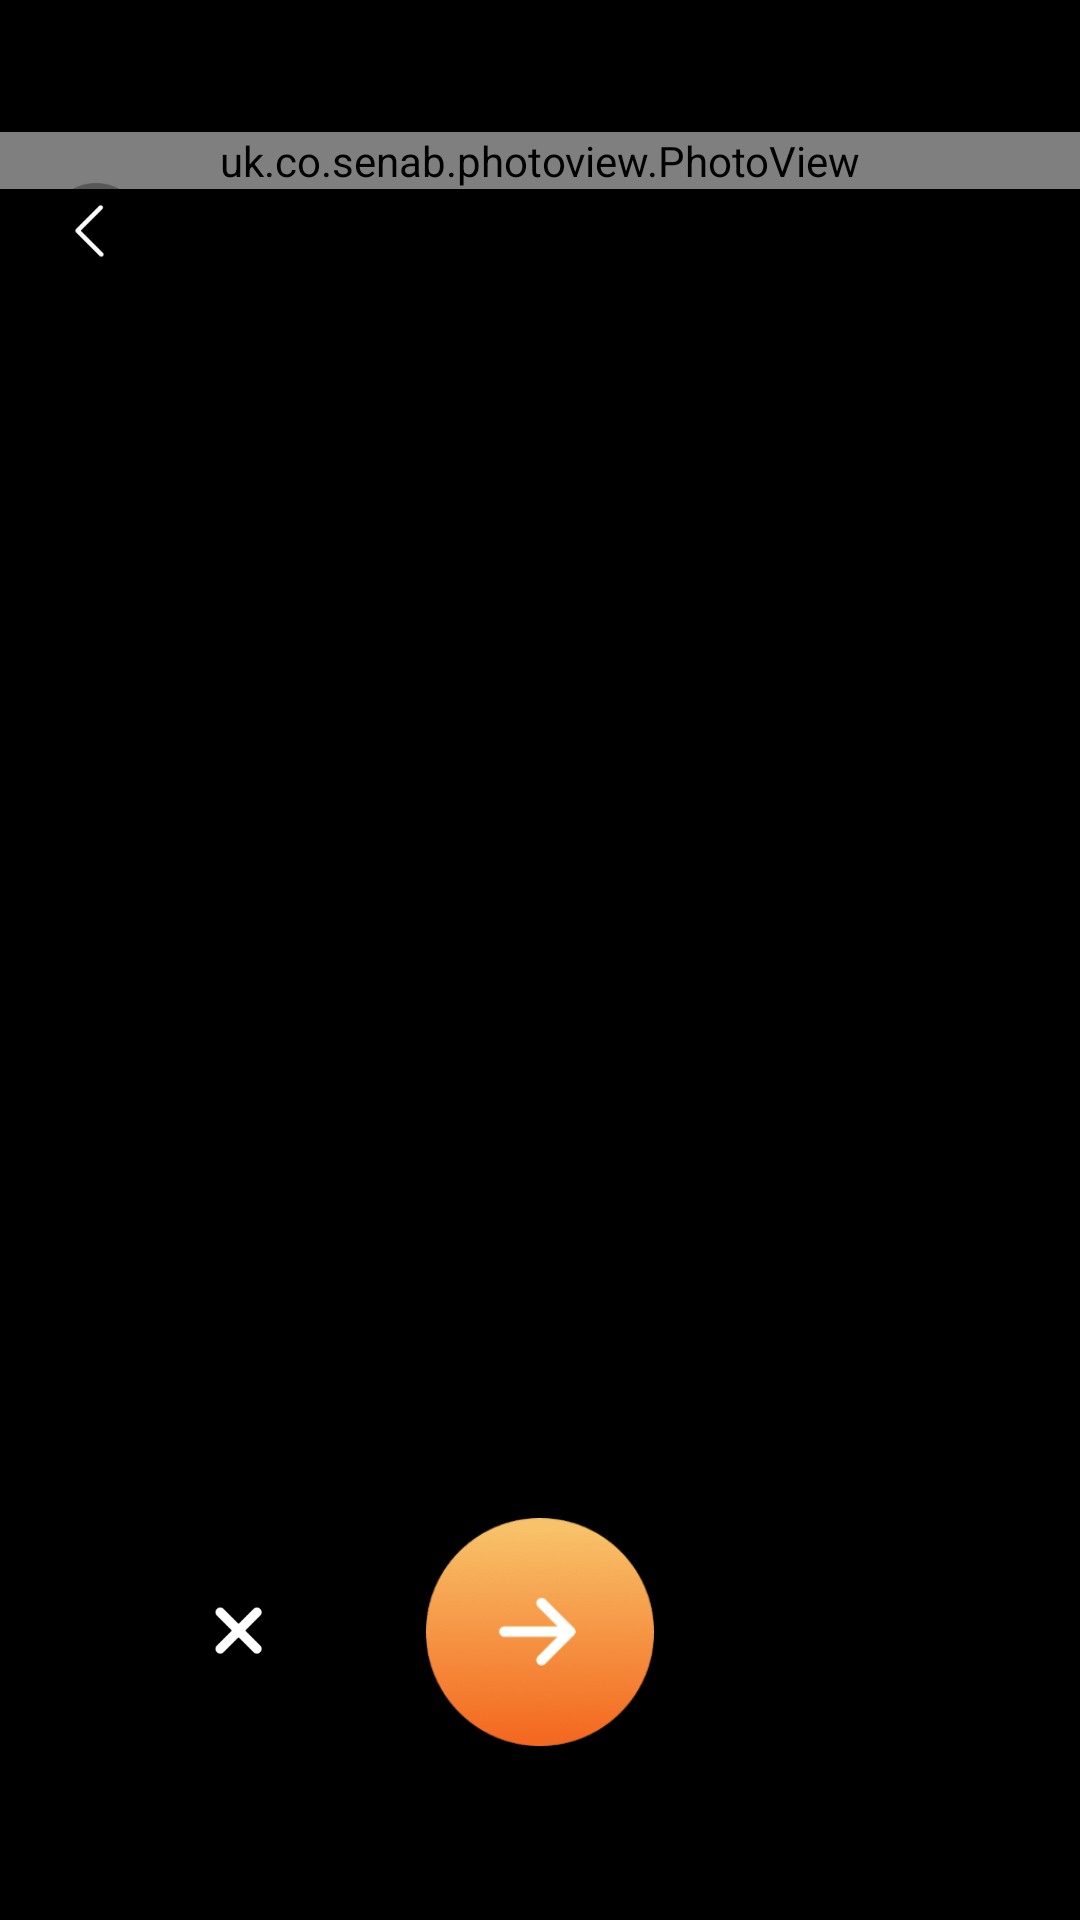

Named icons in this screenshot (1080*1920) and their centers, point (x, y):
back bai: point (94, 220)
ssp finish re: point (540, 1632)
ssp video delete: point (238, 1630)
